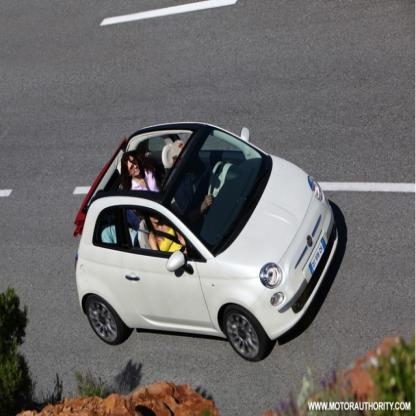Vehicle: (74, 119, 341, 366)
